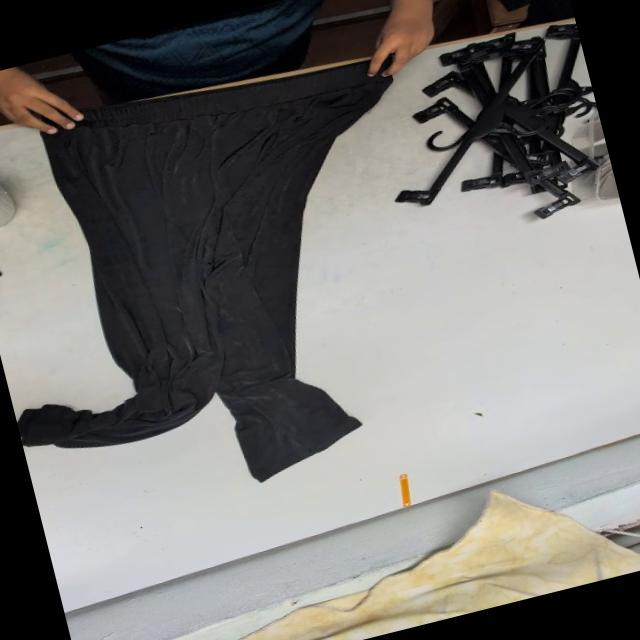new-garment: (17, 64, 391, 481)
